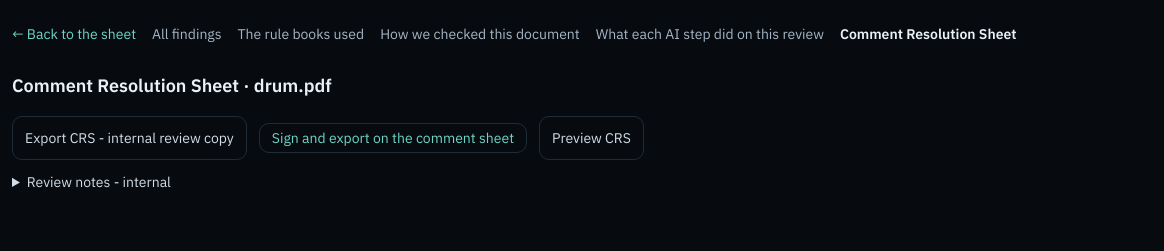
Test case: the CRS preview › shows the API's own words when the preview cannot be read
The image size is (1164, 251).
Click the button "Preview CRS": [592, 138] box [539,116,644,160]
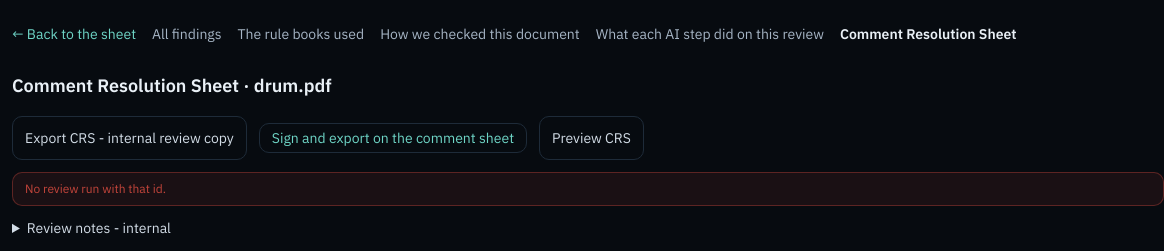
Now the message reads "No review run with that id.", box [25,181,166,196]
